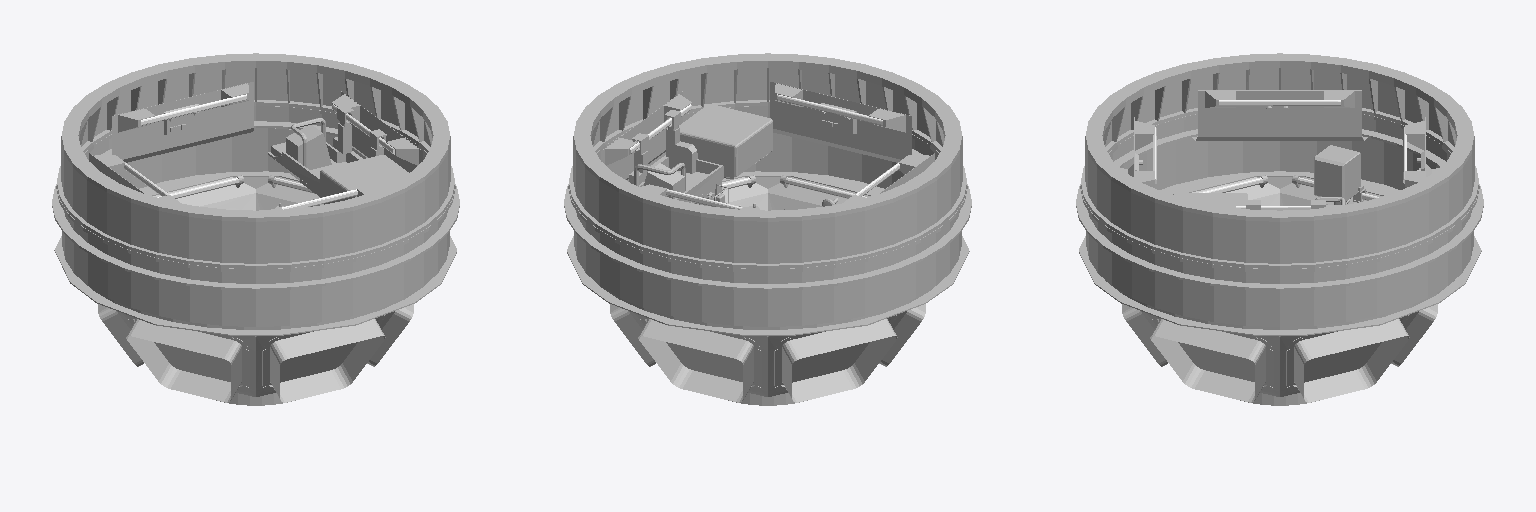
Rendered from Ship.obj.
3 views of the same model, side by side, from view 1: azimuth 30°, elevation 25°; view 2: azimuth 150°, elevation 25°; view 3: azimuth 270°, elevation 25° (orthographic).
Visible parts, largest first — view 1: Cupola_Int_Cabin_Untitled.077, Cupola_Int_MSS_AV_Untitled.558, Cupola_Int_Glass_Untitled.083, Cupola_Int_Metal_Untitled.085; view 2: Cupola_Int_Cabin_Untitled.077, Cupola_Int_MSS_AV_Untitled.558, Cupola_Int_Glass_Untitled.083, Cupola_Int_Metal_Untitled.085; view 3: Cupola_Int_Cabin_Untitled.077, Cupola_Int_Glass_Untitled.083, Cupola_Int_Metal_Untitled.085, Cupola_Int_MSS_AV_Untitled.558.
Boxes of the visible parts, x1,y1,x2,y2 form: Cupola_Int_Cabin_Untitled.077: [52, 53, 459, 405]; Cupola_Int_MSS_AV_Untitled.558: [268, 105, 408, 208]; Cupola_Int_Glass_Untitled.083: [135, 318, 376, 384]; Cupola_Int_Metal_Untitled.085: [124, 94, 394, 209]; Cupola_Int_Cabin_Untitled.077: [564, 53, 971, 405]; Cupola_Int_MSS_AV_Untitled.558: [629, 104, 772, 209]; Cupola_Int_Glass_Untitled.083: [647, 318, 888, 384]; Cupola_Int_Metal_Untitled.085: [629, 94, 899, 209]; Cupola_Int_Cabin_Untitled.077: [1076, 53, 1483, 405]; Cupola_Int_Glass_Untitled.083: [1159, 318, 1400, 384]; Cupola_Int_Metal_Untitled.085: [1153, 100, 1406, 210]; Cupola_Int_MSS_AV_Untitled.558: [1173, 193, 1345, 209].
Size of the model in its own units: 20.7 by 13.47 by 20.7.